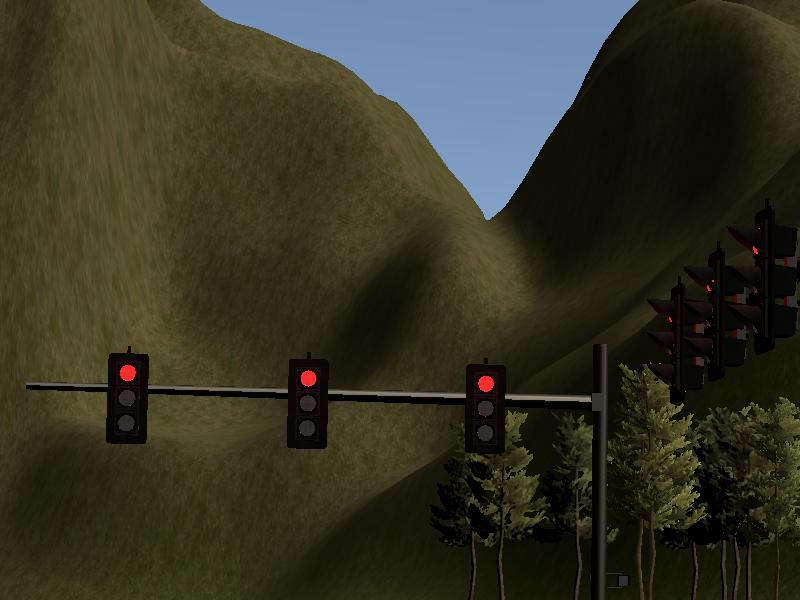Red: (109, 353, 146, 442), (290, 359, 326, 448), (467, 365, 504, 451)
